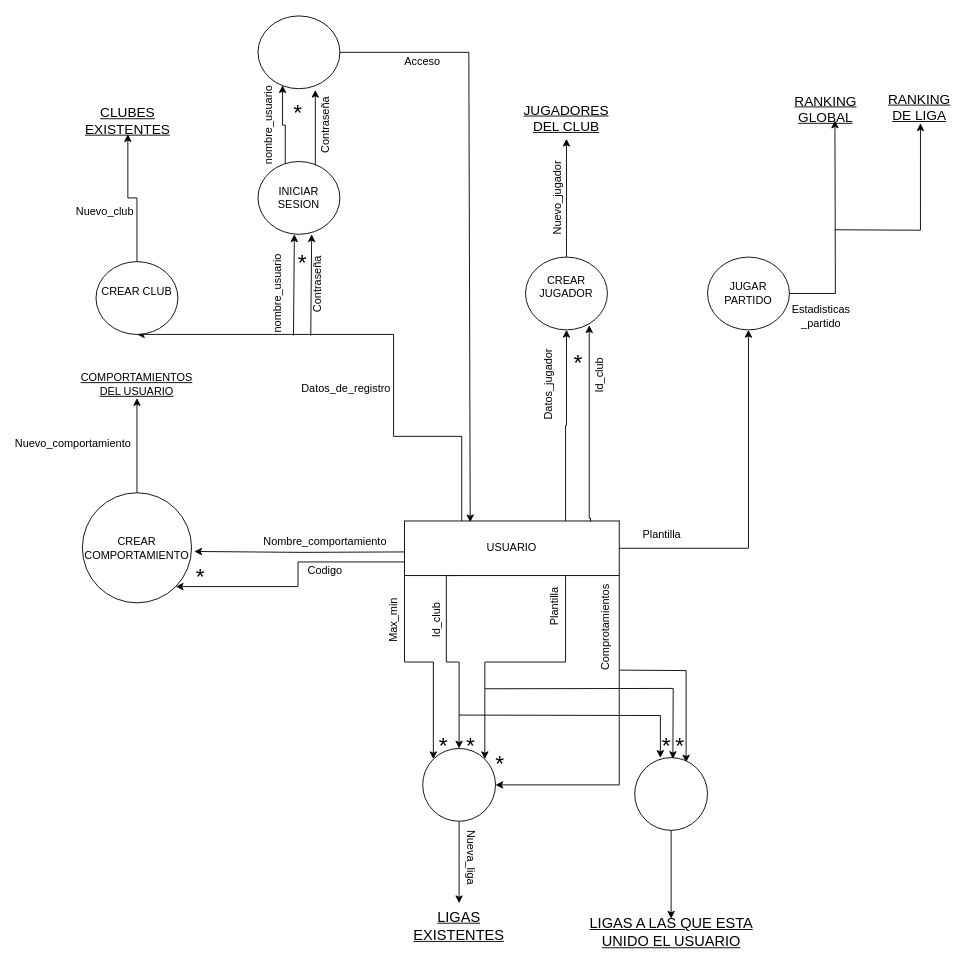
Image size: 966x966. Some labels were removed from this diagram. The centre of each missing label's shape, as x and y in pixels:
CREAR LIGA: [458,784]
UNIRSE A LIGA: [671,793]
VALIDAR DATOS: [298,52]
